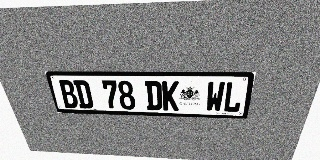7: (100, 80, 120, 109)
8: (117, 81, 136, 110)
B: (57, 80, 79, 108)
D: (73, 80, 94, 109), (145, 81, 162, 110)
K: (162, 81, 179, 111)
L: (222, 82, 244, 112)
W: (205, 81, 225, 112)
